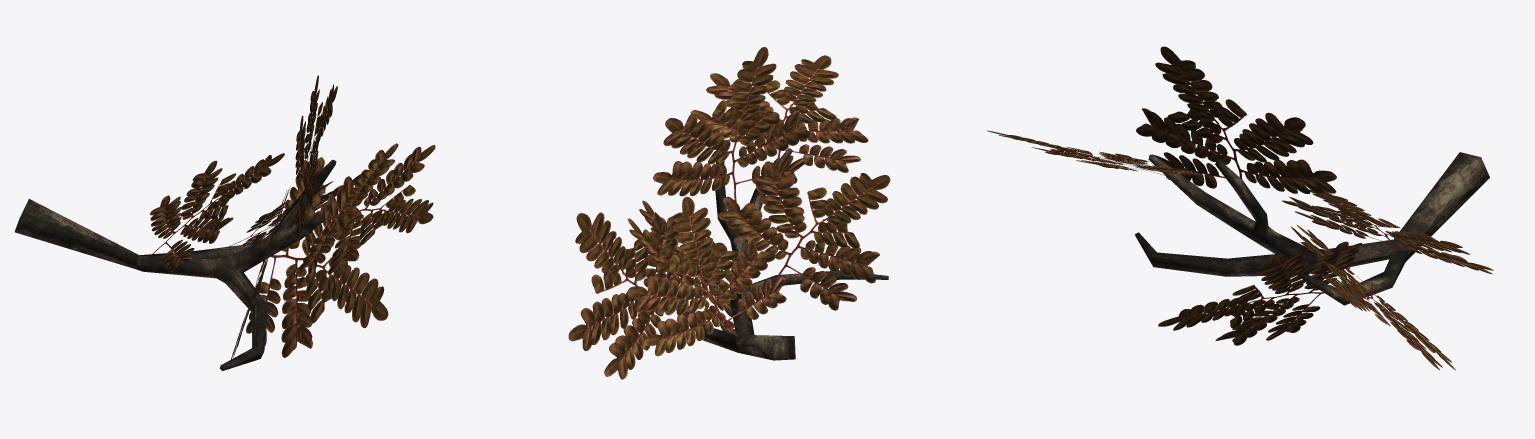
File: galho_0.fbx
3 renders of one model, left to right at view 1: azimuth 30°, elevation 25°; view 2: azimuth 150°, elevation 25°; view 3: azimuth 270°, elevation 25°, orthographic. The views are drawn at different scales.
Parts seen in each view (by area): view 1: folha_seca_0, tronco_0; view 2: folha_seca_0, tronco_0; view 3: folha_seca_0, tronco_0.
Part boxes in pixels (x1=…): folha_seca_0: x1=150, y1=75, x2=435, y2=370; tronco_0: x1=14, y1=159, x2=336, y2=370; folha_seca_0: x1=568, y1=47, x2=890, y2=379; tronco_0: x1=667, y1=148, x2=888, y2=360; folha_seca_0: x1=987, y1=46, x2=1493, y2=370; tronco_0: x1=1135, y1=152, x2=1489, y2=305.
Bounding box in the file's own units: 337 × 337 × 466.
